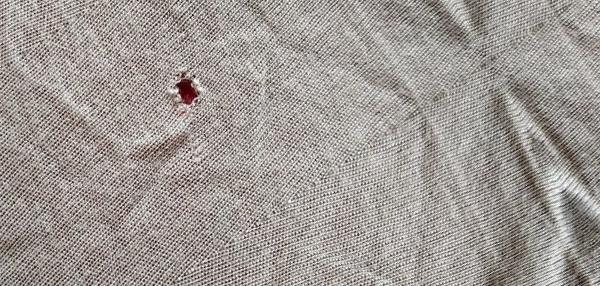hole: (164, 68, 211, 109)
